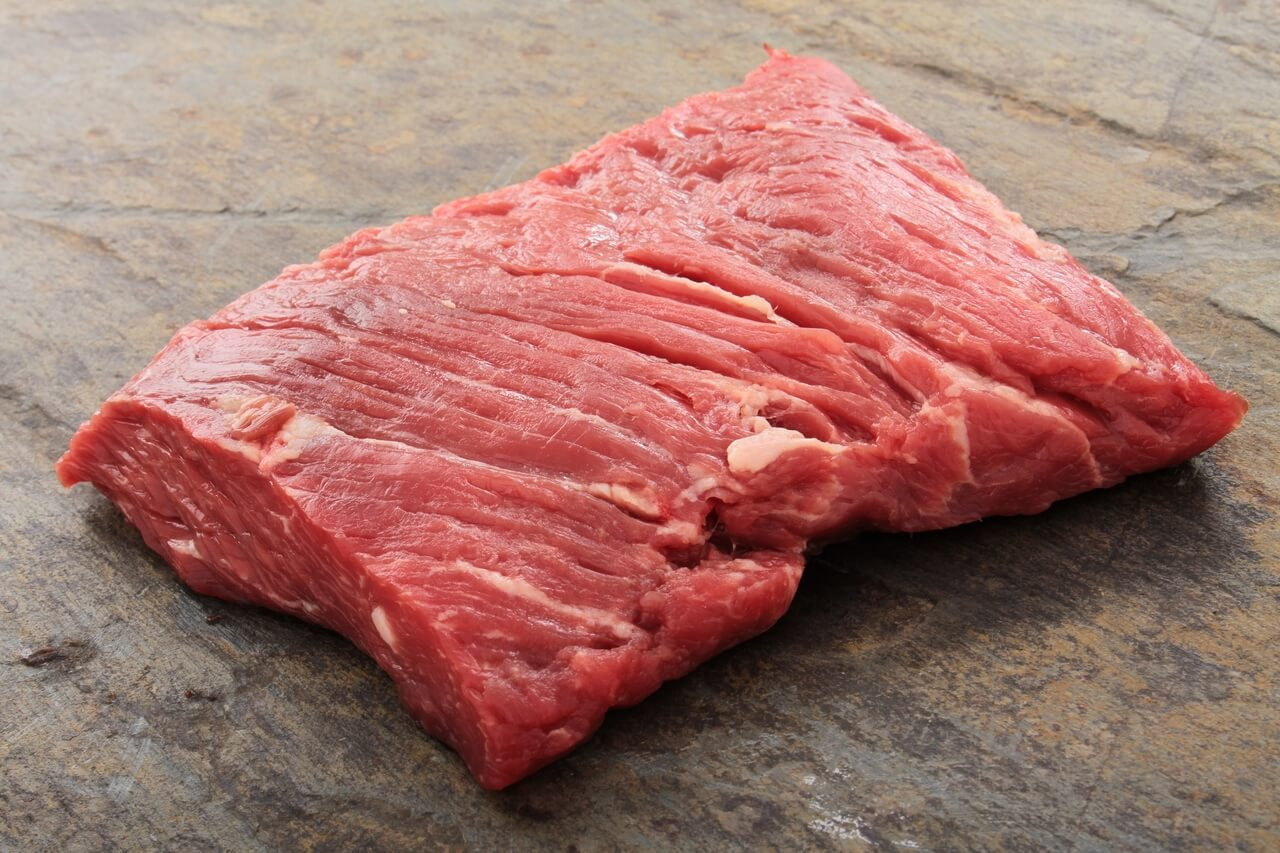Beef: (62, 70, 1244, 787)
